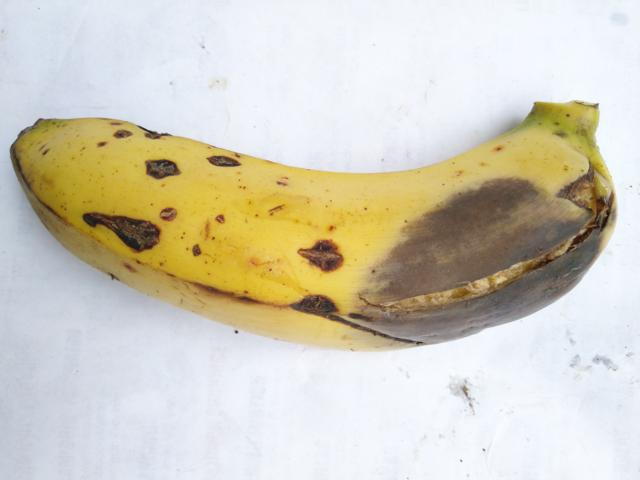rotten: (351, 164, 627, 376), (68, 193, 176, 264), (282, 222, 359, 278), (193, 134, 251, 181), (284, 287, 349, 322), (133, 146, 179, 188), (120, 107, 172, 144)
